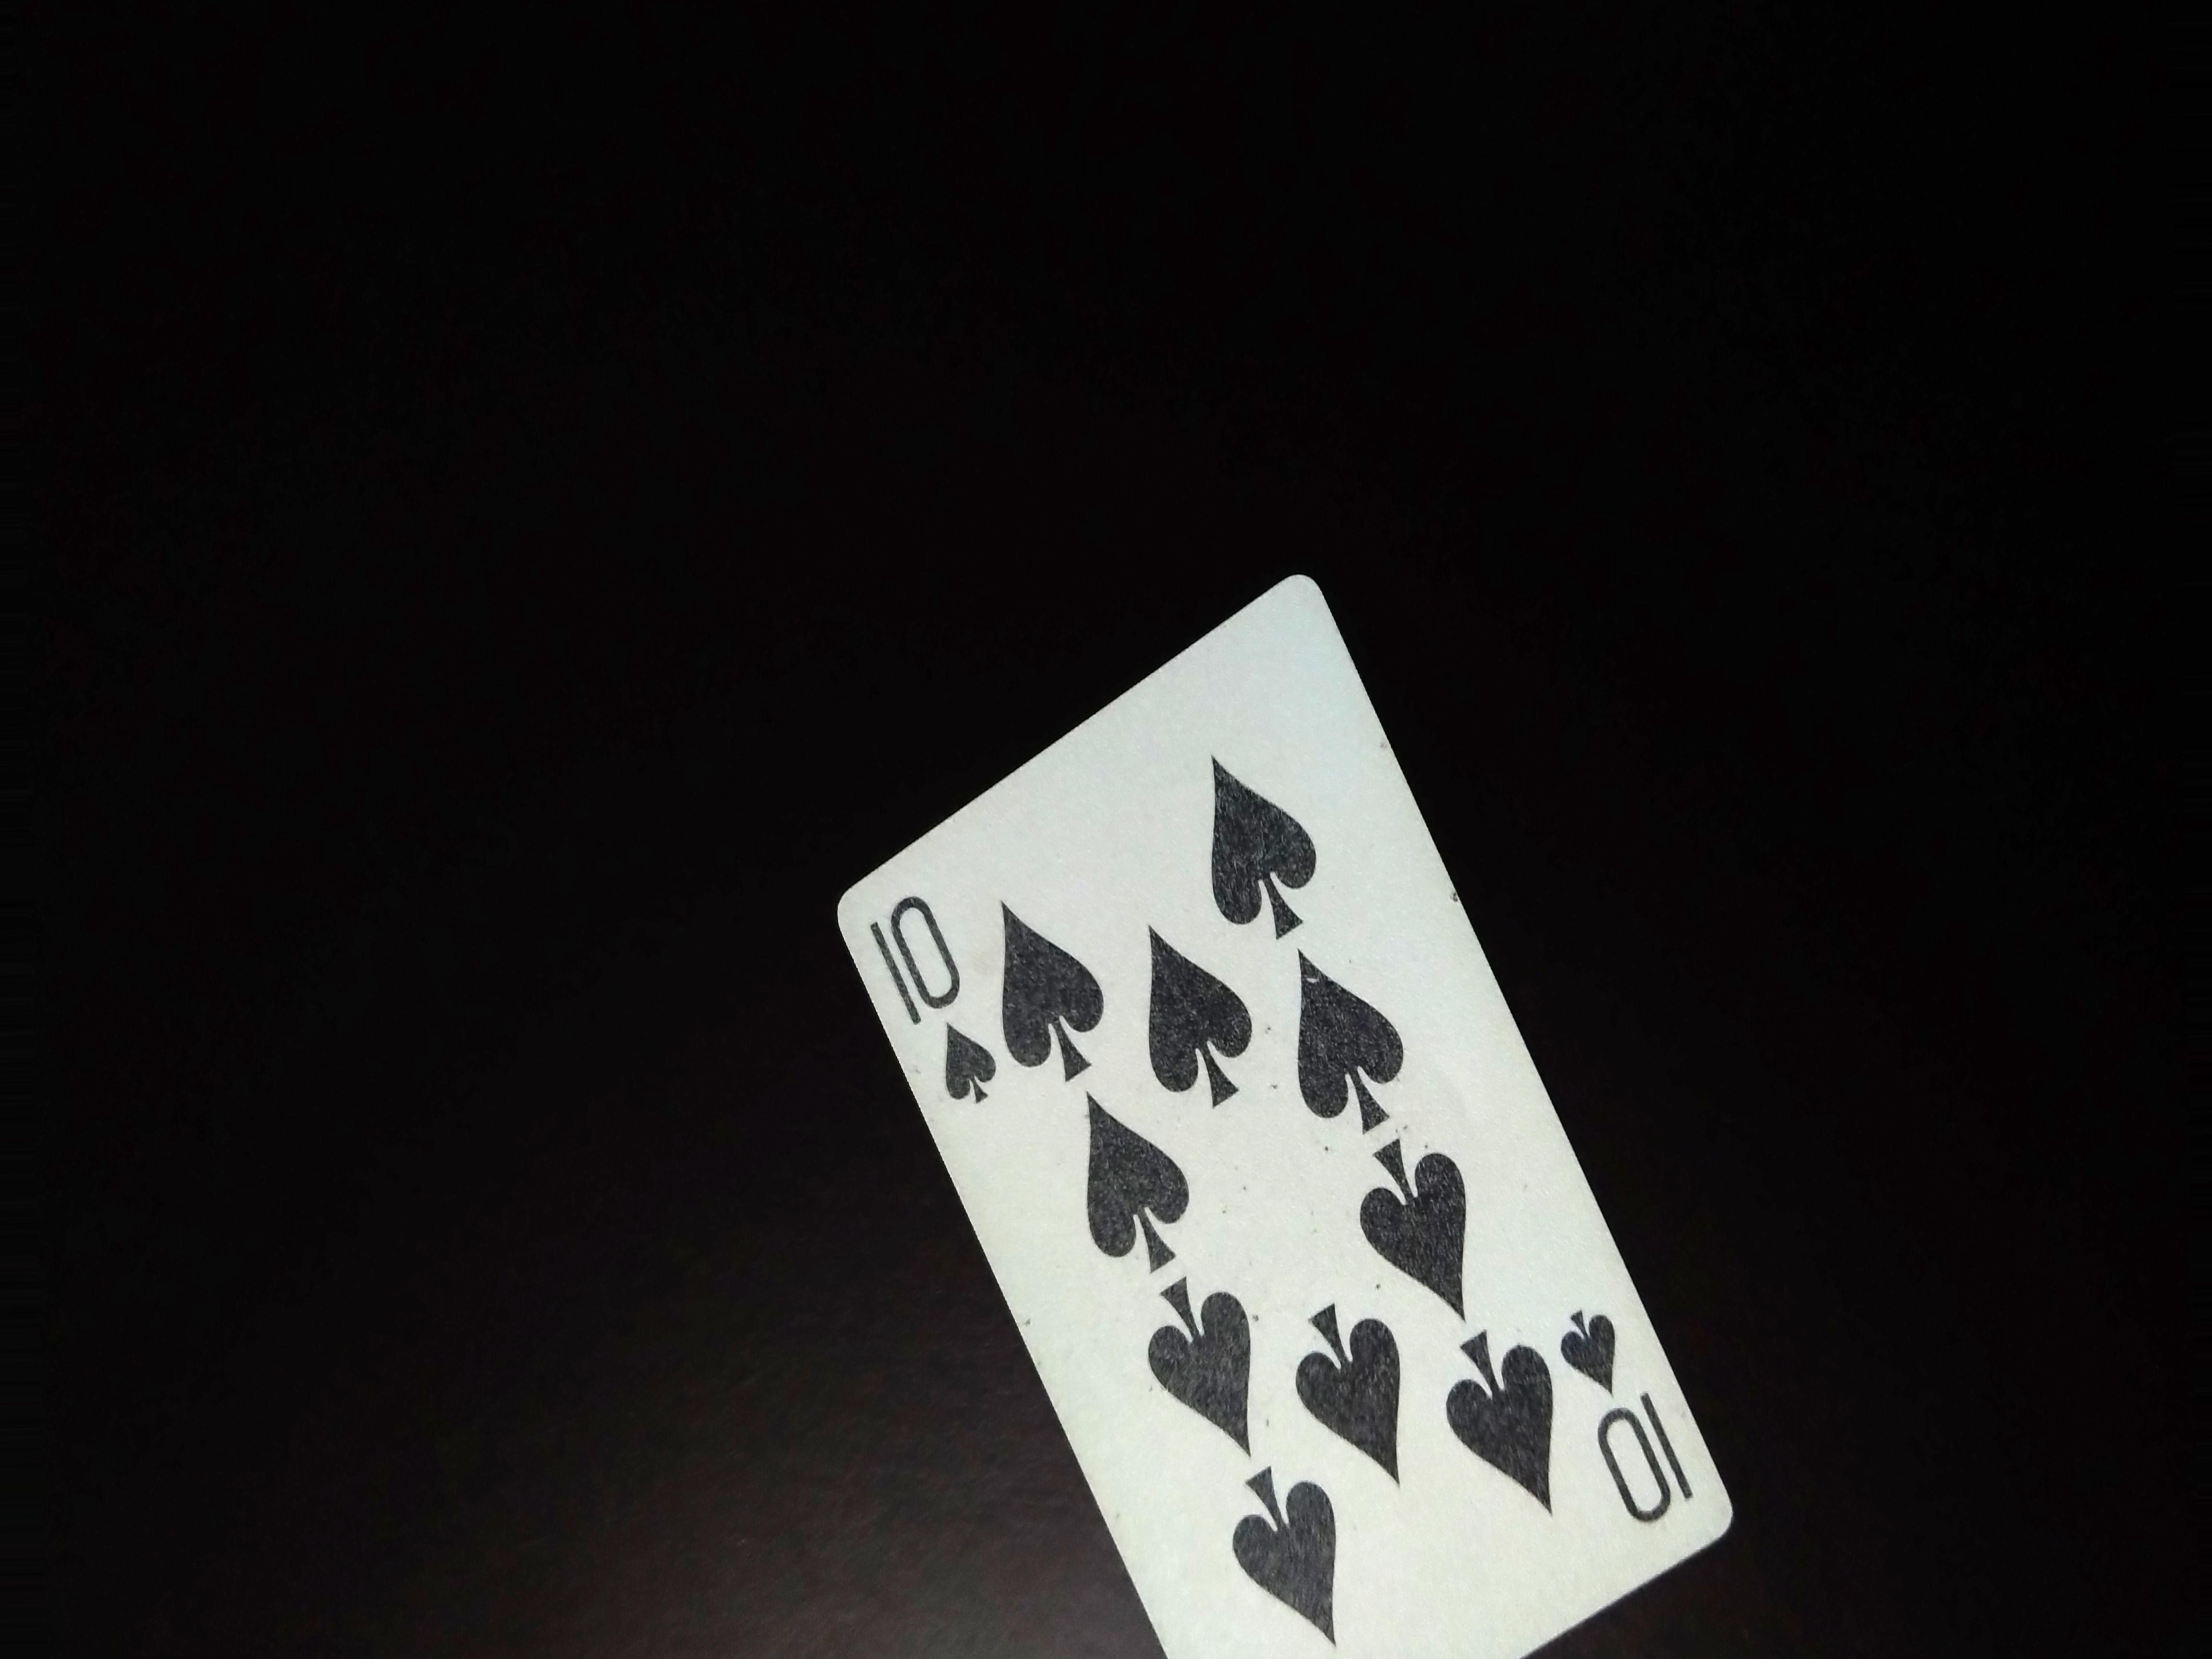10S: (859, 889, 1010, 1136)
